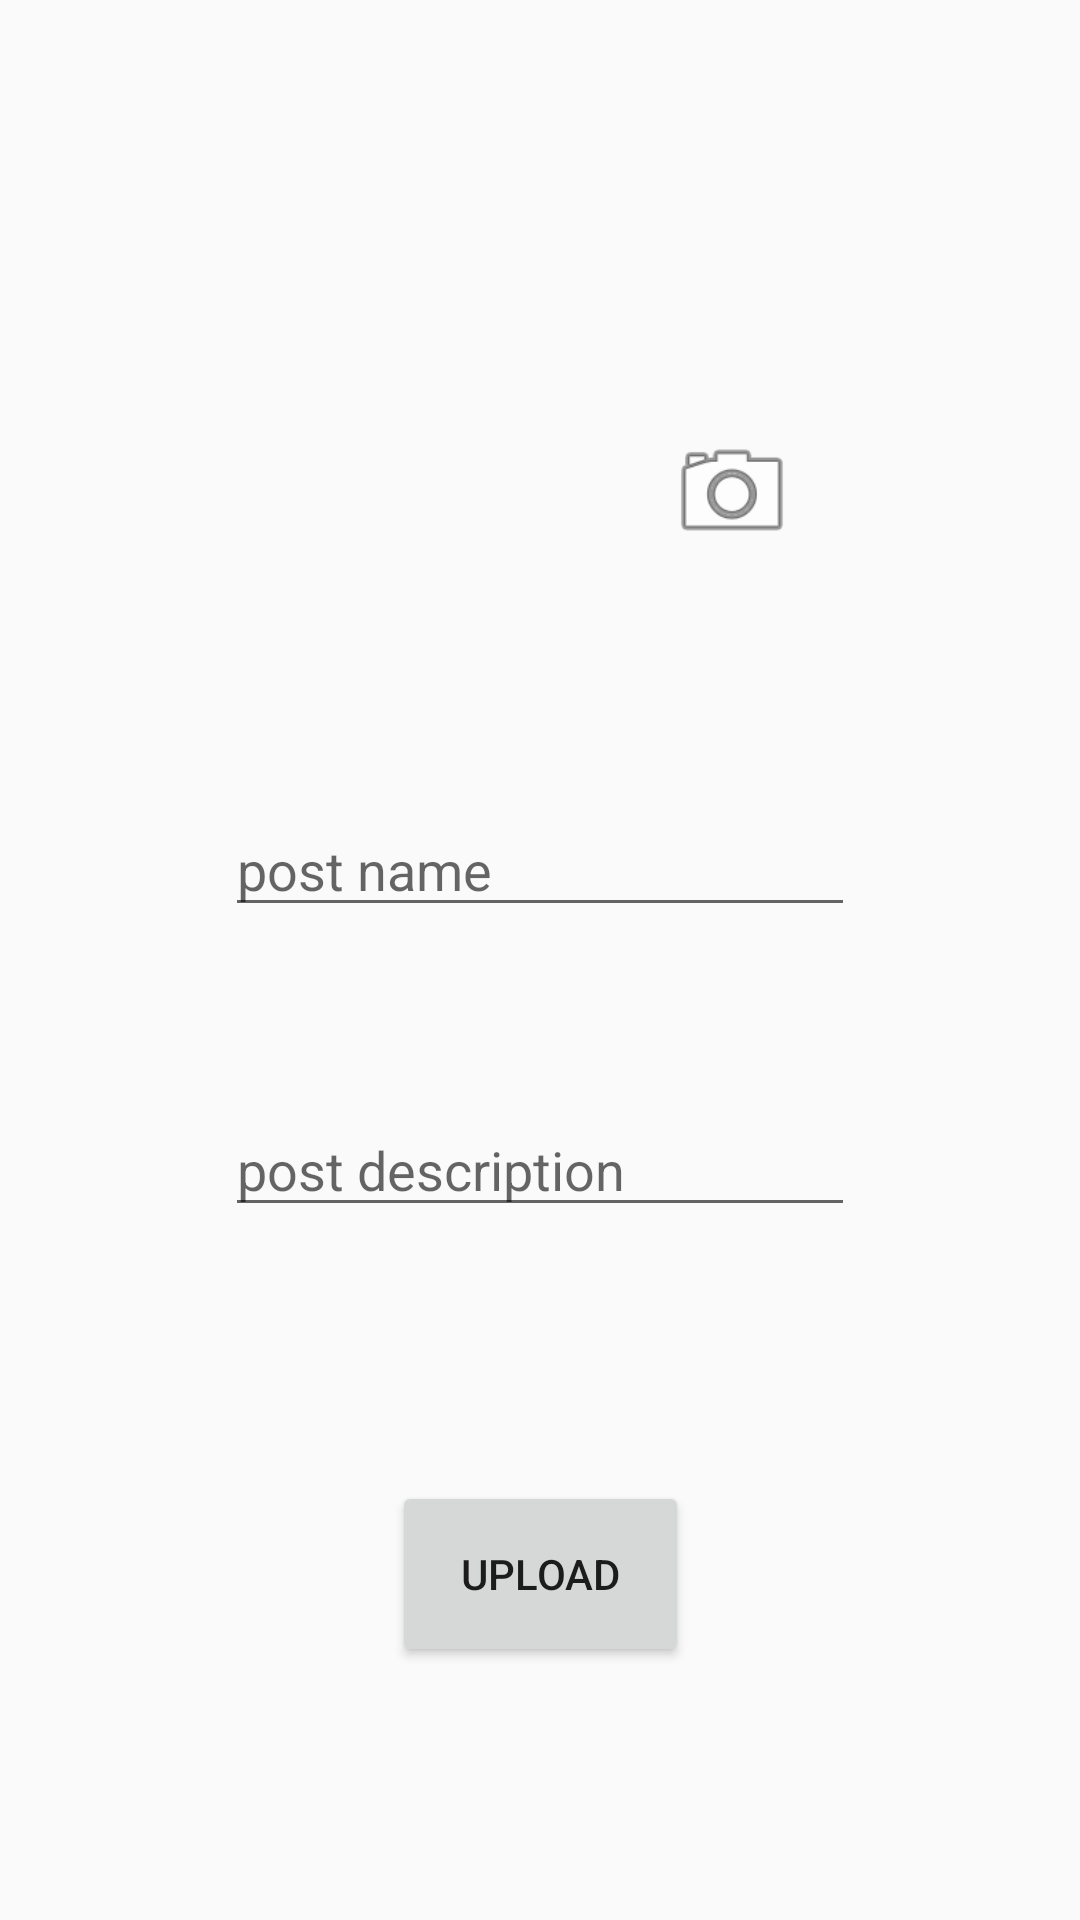

Screen size 1080×1920. Icon name, then its box in pixels as [left=x1, top=y1, right=x2, bottom=y2]:
camera: [left=681, top=449, right=783, bottom=531]
